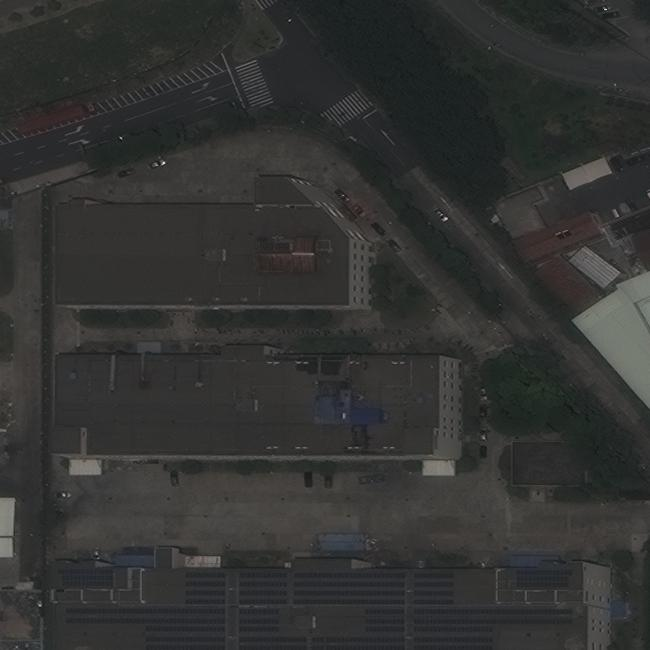parking lot: (83, 64, 226, 116)
